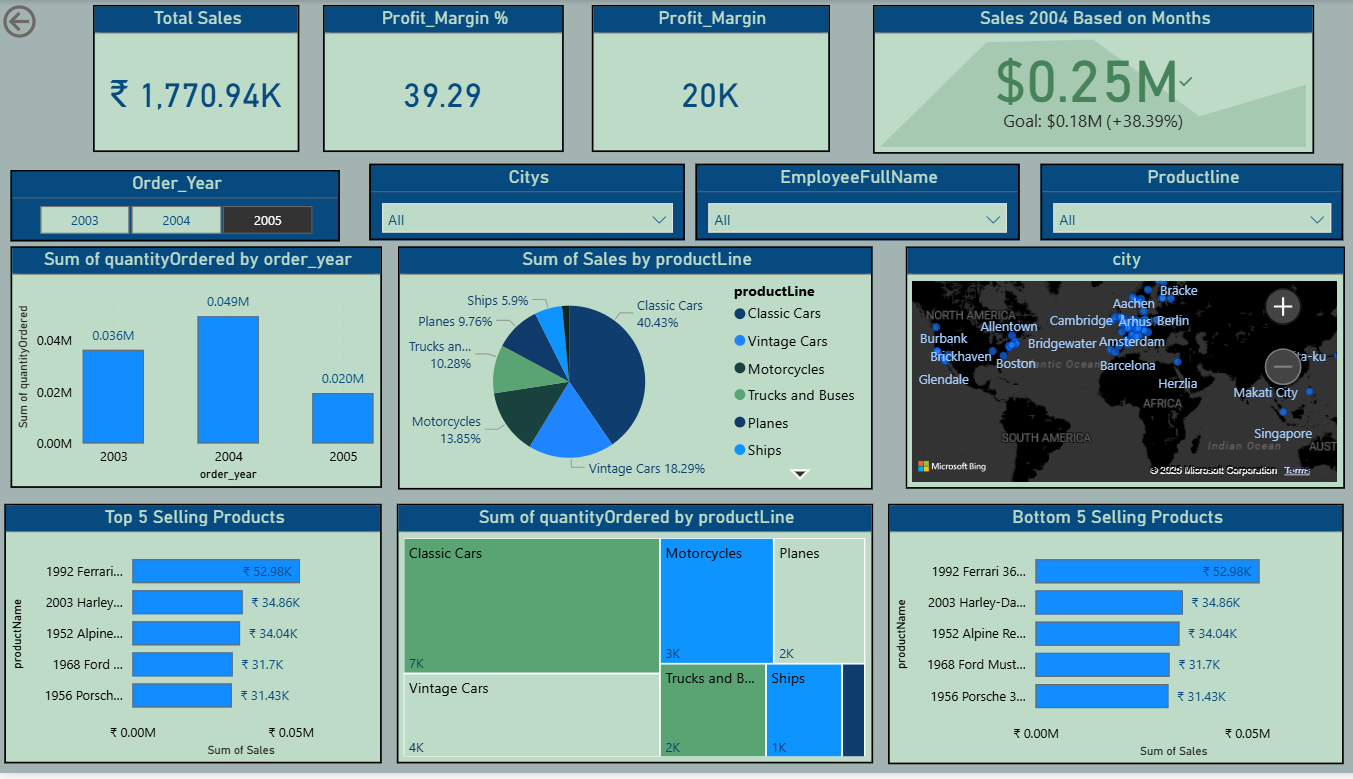

What the dashboard file says about the page in this screenshot:
{"tool":"powerbi","page":{"name":"Page 1","canvas":[1280,720],"ordinal":0},"visuals":[{"type":"barChart","title":"Top 5 Selling Products","fields":{"Category":["products.productName"],"Y":["order details.Sales"]},"box":[5.8,468.6,351.2,241.9],"z":0},{"type":"pieChart","fields":{"Category":["products.productLine"],"Y":["order details.Sales"]},"box":[372.6,229,441.7,226.2],"z":1000},{"type":"kpi","title":"Sales 2004 Based  on  Months","fields":{"Indicator":["orders.sales_2004"],"Goal":["orders.sales_2003"],"TrendLine":["orders.Month Name"]},"box":[828.2,0,408.5,140.3],"z":2000},{"type":"treemap","fields":{"Group":["productlines.productLine"],"Values":["order details.quantityOrdered"]},"box":[370.9,468.6,443,241.9],"z":3000},{"type":"clusteredColumnChart","fields":{"Category":["orders.order_year"],"Y":["order details.quantityOrdered"]},"box":[11.6,229.1,345.3,224.4],"z":4000},{"type":"card","title":"Total Sales","fields":{"Values":["order details.Sales"]},"box":[88.5,4.9,191.9,136.5],"z":5000},{"type":"slicer","title":"Order_Year","fields":{"Values":["orders.order_year"]},"box":[11.7,158,306.6,66.7],"z":6000},{"type":"slicer","title":"Citys","fields":{"Values":["Customers.city"]},"box":[345.6,152.5,293.9,71.3],"z":7000},{"type":"slicer","title":"EmployeeFullName","fields":{"Values":["employees.Employees Full Name"]},"box":[649.3,152.5,301.3,71.3],"z":8000},{"type":"slicer","title":"Productline","fields":{"Values":["productlines.productLine"]},"box":[970.3,152.5,281.6,71.3],"z":9000},{"type":"actionButton","box":[0,0,100,40],"z":10000},{"type":"card","title":"Profit_Margin %","fields":{"Values":["Customers.Profit_Margin_%"]},"box":[302.5,4.9,223.8,136.5],"z":11000},{"type":"card","title":"Profit_Margin","fields":{"Values":["order details.quantityOrdered"]},"box":[552.2,4.9,221.4,136.5],"z":12000},{"type":"barChart","title":"Bottom 5 Selling Products","fields":{"Category":["products.productName"],"Y":["order details.Sales"]},"box":[827.8,468.8,424,242.5],"z":13000},{"type":"map","fields":{"Category":["Customers.city"]},"box":[843.8,229.3,408.5,226],"z":14000}]}

Visuals, with their boxes in screenshot pixels (x1, y1, x2, y2), scaled from the page's 1280x720 canvas onto the 1353x779 screenshot:
"Top 5 Selling Products" barChart: (6, 507, 377, 769)
pieChart - products.productLine x order details.Sales: (394, 248, 861, 493)
"Sales 2004 Based  on  Months" kpi: (875, 0, 1307, 152)
treemap - productlines.productLine x order details.quantityOrdered: (392, 507, 860, 769)
clusteredColumnChart - orders.order_year x order details.quantityOrdered: (12, 248, 377, 491)
"Total Sales" card: (94, 5, 296, 153)
"Order_Year" slicer: (12, 171, 336, 243)
"Citys" slicer: (365, 165, 676, 242)
"EmployeeFullName" slicer: (686, 165, 1005, 242)
"Productline" slicer: (1026, 165, 1323, 242)
actionButton: (0, 0, 106, 43)
"Profit_Margin %" card: (320, 5, 556, 153)
"Profit_Margin" card: (584, 5, 818, 153)
"Bottom 5 Selling Products" barChart: (875, 507, 1323, 770)
map - Customers.city: (892, 248, 1324, 493)
